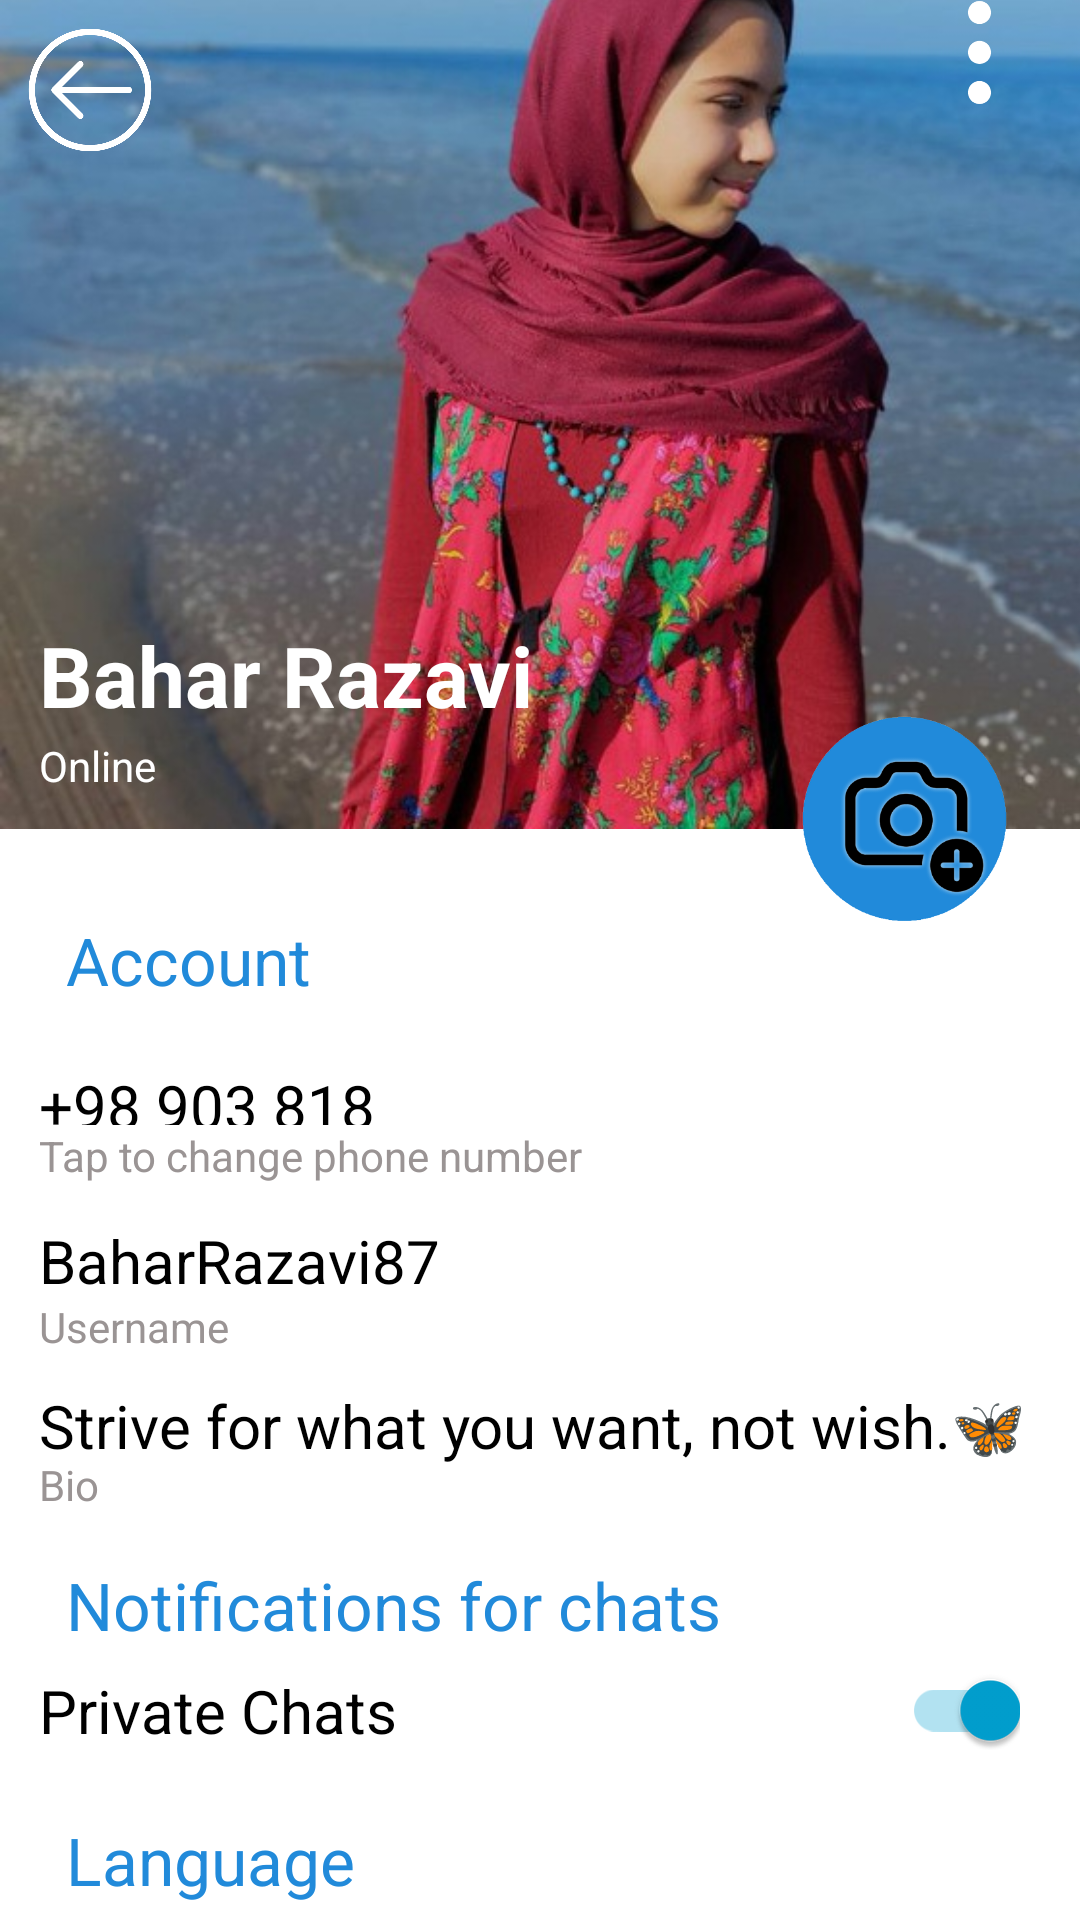

Icon click points for this 1080*1920 phone screenshot, format (x=x, y=y):
back: (x=90, y=85)
